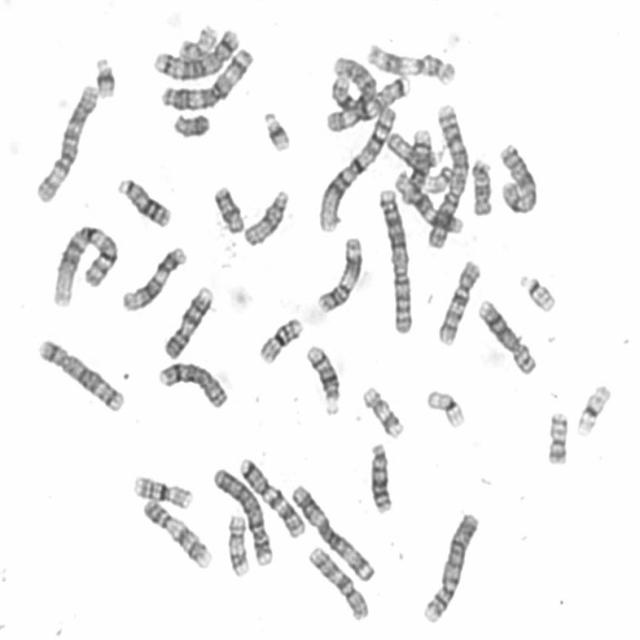A1: (313, 101, 399, 232), (47, 219, 121, 309)
A2: (422, 99, 470, 249), (374, 183, 415, 335)
A3: (285, 478, 377, 583), (156, 43, 256, 112)
B4: (418, 506, 480, 626), (208, 461, 276, 568)
B5: (34, 333, 126, 414), (147, 23, 242, 80)
C10: (304, 541, 371, 622), (433, 253, 483, 348)
C11: (362, 37, 458, 86), (312, 231, 365, 314)
C12: (117, 240, 189, 313), (391, 166, 465, 237)
C6: (30, 78, 100, 204), (322, 50, 378, 134)
C7: (234, 451, 308, 539), (328, 68, 415, 124)
C8: (473, 294, 539, 376), (153, 355, 230, 410)
C9: (138, 494, 213, 570), (159, 280, 216, 361)
D13: (112, 172, 173, 229), (365, 437, 394, 515)
D14: (301, 338, 342, 418), (402, 123, 434, 201)
D15: (238, 183, 292, 249), (383, 126, 443, 168)
E16: (254, 311, 305, 365), (128, 470, 195, 510)
E17: (358, 380, 407, 440), (223, 509, 252, 578)
E18: (208, 180, 246, 236), (467, 152, 495, 218)
F19: (572, 378, 613, 438), (422, 384, 467, 430)
F20: (173, 18, 219, 62), (541, 406, 571, 467)
G21: (258, 105, 292, 153), (90, 50, 118, 100)
G22: (514, 269, 558, 314), (420, 160, 456, 195)
X: (494, 137, 540, 216)
Y: (168, 108, 212, 140)
